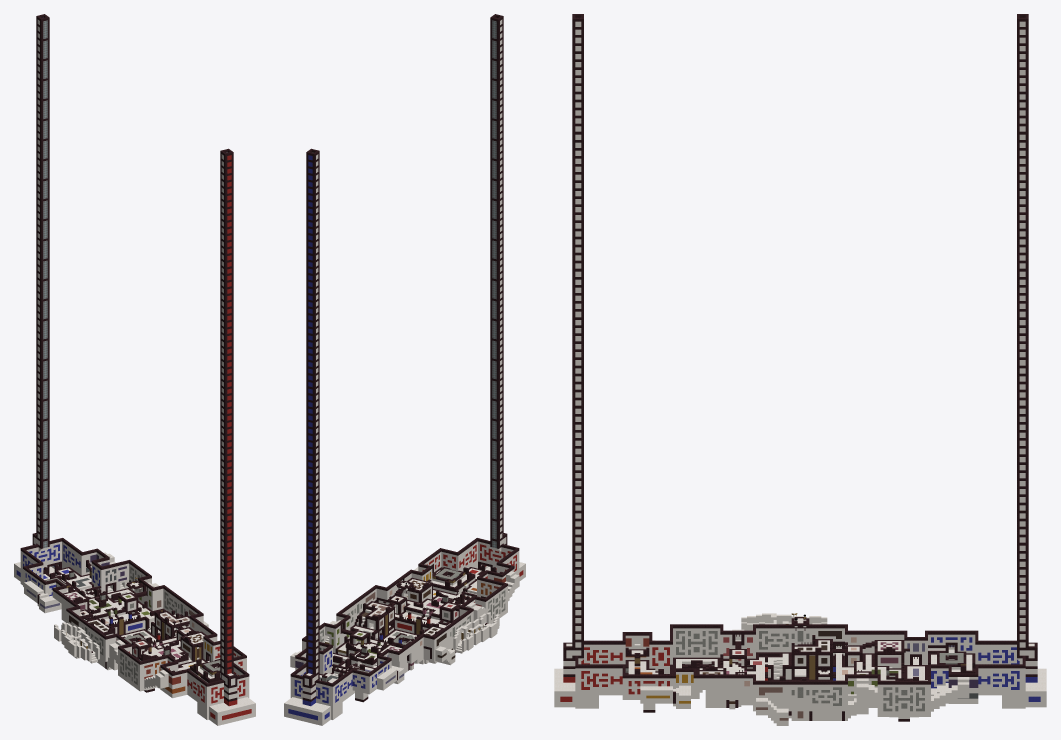
Rendered from minecraft.obj.
3 renders of one model, left to right at view 1: azimuth 30°, elevation 25°; view 2: azimuth 150°, elevation 25°; view 3: azimuth 270°, elevation 25°, orthographic. The views are drawn at different scales.
Size of the model in its own units: 62 by 255 by 166.
